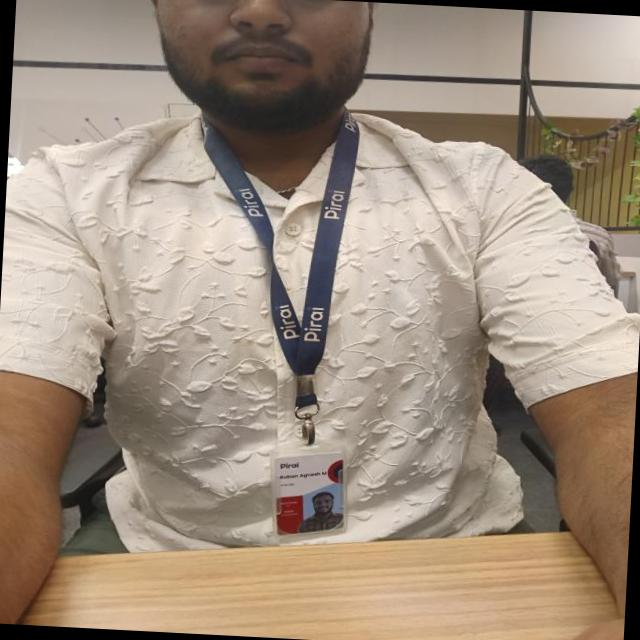id_card: (186, 101, 380, 545)
